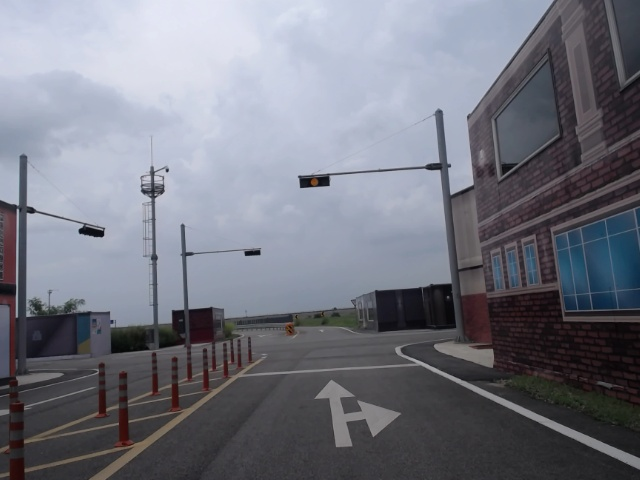orange_3: (299, 175, 330, 187)
